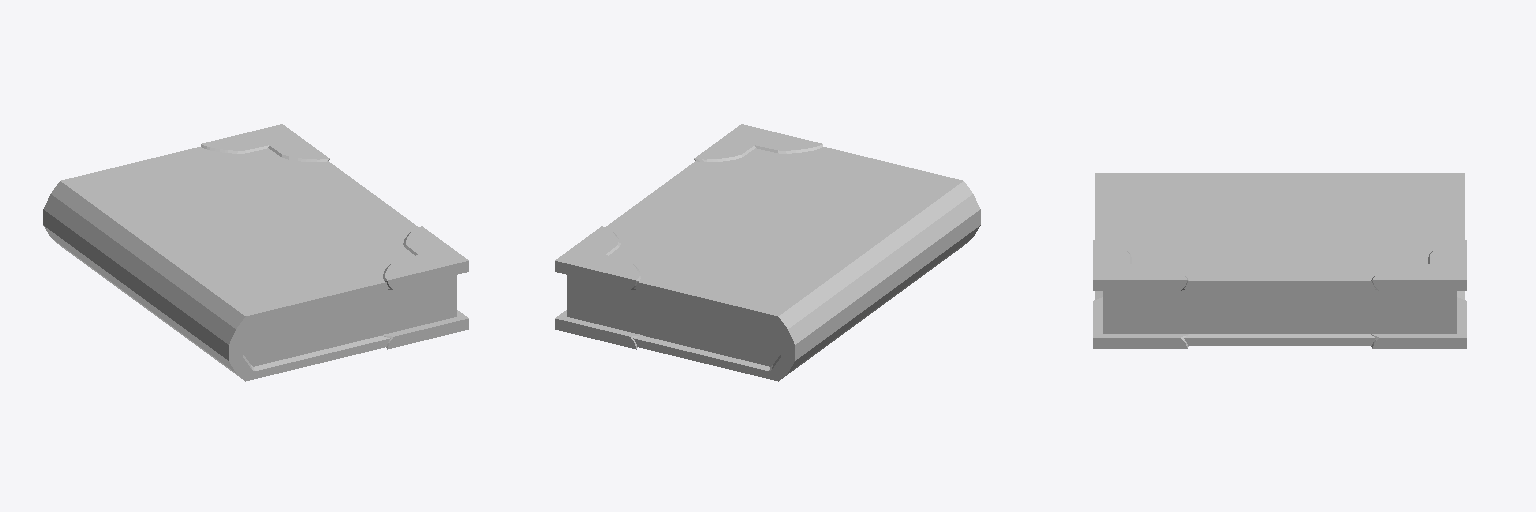
Rendered from Book_7.obj.
3 renders of one model, left to right at view 1: azimuth 30°, elevation 25°; view 2: azimuth 150°, elevation 25°; view 3: azimuth 270°, elevation 25°, orthographic.
Visible parts, largest first — view 1: Book_7_Cube.133; view 2: Book_7_Cube.133; view 3: Book_7_Cube.133.
Boxes of the visible parts, x1,y1,x2,y2 form: Book_7_Cube.133: [43, 124, 468, 381]; Book_7_Cube.133: [555, 124, 980, 381]; Book_7_Cube.133: [1093, 173, 1466, 348].
Size of the model in its own units: 0.247 by 0.0679 by 0.3333.